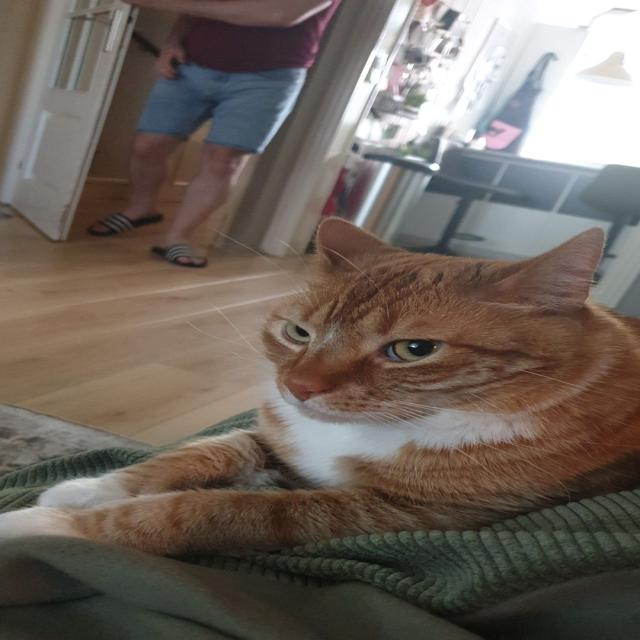sarman: (13, 126, 640, 599)
